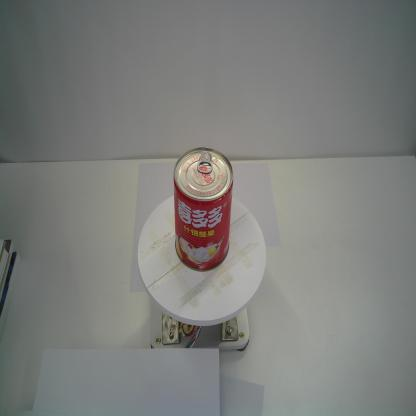Canned Food: (173, 146, 234, 272)
